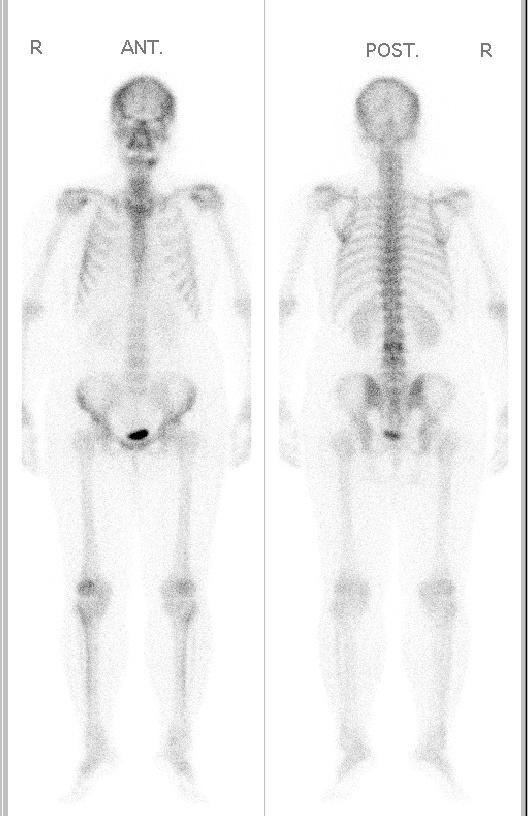person: (8, 1, 521, 816)
